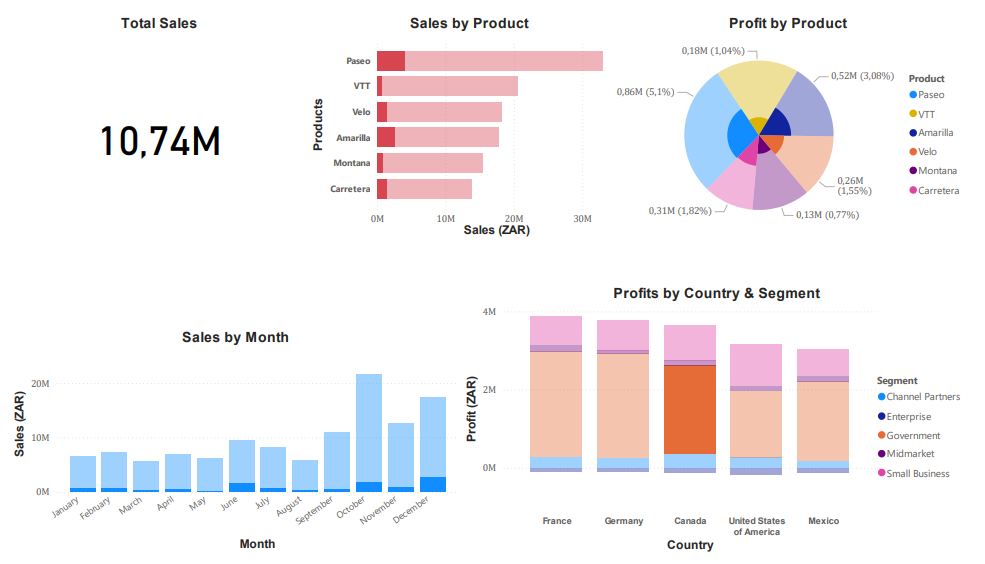

This screenshot's page, from the dashboard's own definition file:
{"tool":"powerbi","page":{"name":"Page 1","canvas":[1280,720],"ordinal":0},"visuals":[{"type":"clusteredBarChart","title":"Sales by Product","fields":{"Category":["financials.Product"],"Y":["Sum(financials. Sales)"]},"box":[398.2,0,427.6,301.2],"z":0},{"type":"pieChart","title":"Profit by Product","fields":{"Category":["financials.Product"],"Y":["Sum(financials.Profit)"]},"box":[792.9,0,487.1,300.7],"z":1000},{"type":"clusteredColumnChart","title":"Sales by Month","fields":{"Category":["financials.Date.Variation.Date Hierarchy.Year","financials.Date.Variation.Date Hierarchy.Quarter","financials.Date.Variation.Date Hierarchy.Month","financials.Date.Variation.Date Hierarchy.Day","financials.Product"],"Y":["Sum(financials. Sales)"]},"box":[0,419.3,601.8,300],"z":2000},{"type":"card","title":"Total Sales","fields":{"Values":["Sum(financials. Sales)"]},"box":[0,0,398.2,301.2],"z":3000},{"type":"columnChart","title":"Profits by Country & Segment","fields":{"Category":["financials.Country"],"Y":["Sum(financials.Profit)"],"Series":["financials.Segment"]},"box":[602.4,360,678.9,360],"z":3001}]}

Visuals, with their boxes in screenshot pixels (x1, y1, x2, y2), scaled from the page's 1280x720 canvas onto the 985x564 screenshot:
"Sales by Product" clusteredBarChart: (306,0,635,236)
"Profit by Product" pieChart: (610,0,984,236)
"Sales by Month" clusteredColumnChart: (0,328,463,563)
"Total Sales" card: (0,0,306,236)
"Profits by Country & Segment" columnChart: (464,282,984,563)
